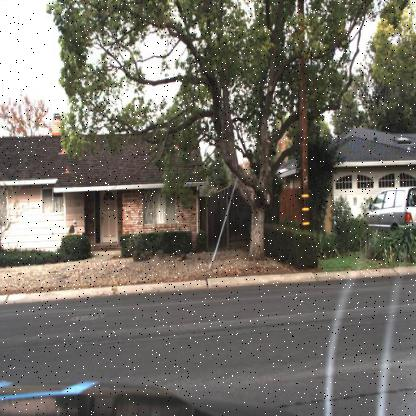car: (357, 186, 416, 246)
